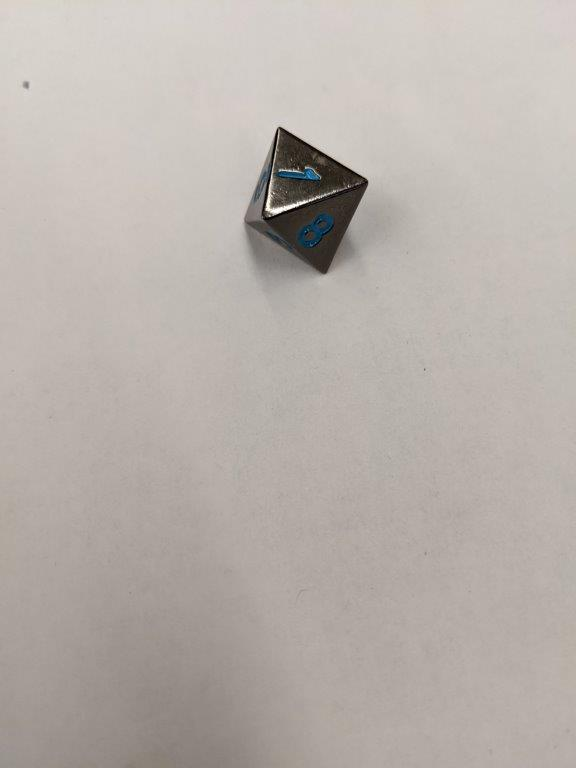d8-1: (245, 126, 370, 276)
